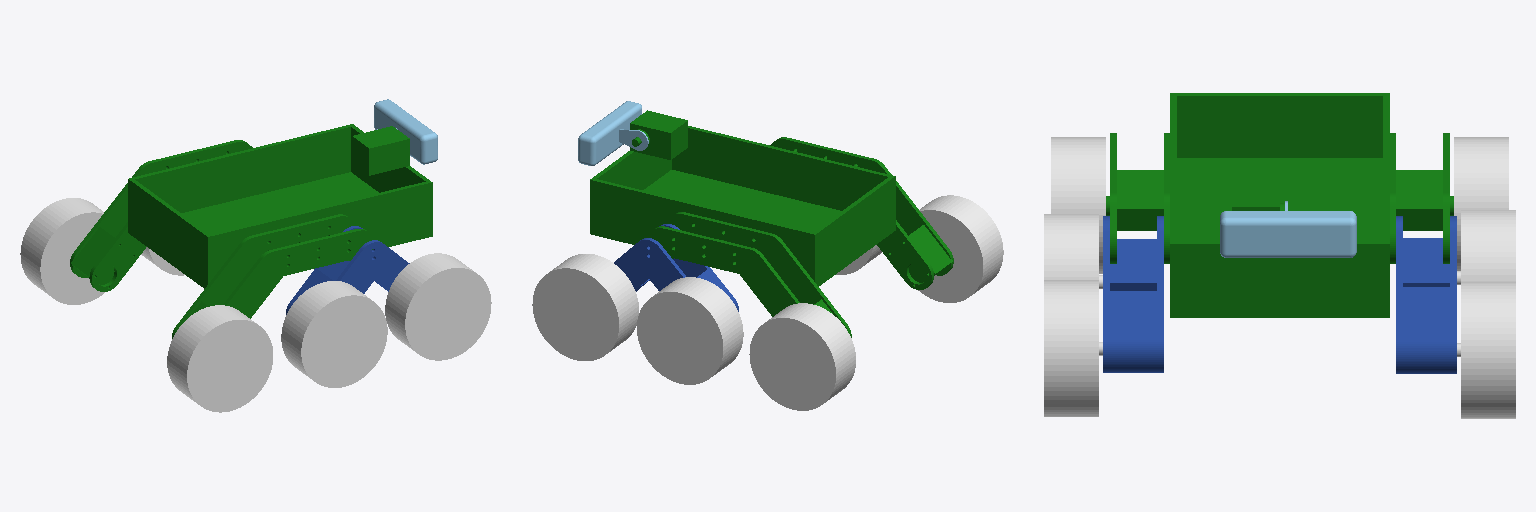
robot.urdf — robot:
<?xml version="1.0"?>
<robot name="robot" fixed_frame="dummy">

  <link name="dummy" fixed="true">
  </link>  

  <link name="l1">
    <visual>
      <origin xyz="-0.1623976833979026424 -0.20144544793473978528 0.26749193742773980098" rpy="1.5707963207290305263 2.9721157967096936663e-09 3.8418044321784632697e-10" />
      
      <geometry>
        <mesh filename="package://robot_description/archives/l1.stl"/>
      </geometry>
      <material name="l1_material">
        <color rgba="0.12941176470588236502 0.54117647058823525885 0.12941176470588236502 1.0"/>
      </material>
    </visual>
    <collision>
      <origin xyz="-0.1623976833979026424 -0.20144544793473978528 0.26749193742773980098" rpy="1.5707963207290305263 2.9721157967096936663e-09 3.8418044321784632697e-10" />
      <geometry>
        <mesh filename="package://robot_description/archives/l1.stl"/>
      </geometry>
    </collision>
    
    <inertial>
      <origin xyz="-0.18259398235284227119 -0.20236856510100109663 0.28038785160103718574" rpy="0 0 0"/>
      <mass value="1.1600736868674601521" />
      <inertia ixx="0.0066008651014344225244" ixy="0.000135586235209932273"  ixz="-0.0014781260412425468835" iyy="0.0106966871170354038" iyz="6.649765397261118234e-05" izz="0.015519266864299045838" />
    </inertial>
  </link>
  <link name="l2_l3_modificado-2_2">
    <visual>
        <origin xyz="5.5511151231257827021e-17 -2.7755575615628913511e-17 -0.039000000000000006883" rpy="1.570796326794896558 -8.2858707243642392136e-26 -3.3812745298728782663e-18" />
        <geometry>
        <mesh filename="package://robot_description/archives/l2_l3_modificado-2.stl"/>
        </geometry>
        <material name="l2_l3_modificado-2_material">
        <color rgba="0.2313725490196078538 0.38039215686274507888 0.7058823529411765163 1.0"/>
        </material>
    </visual>
    <collision>
        <origin xyz="5.5511151231257827021e-17 -2.7755575615628913511e-17 -0.039000000000000006883" rpy="1.570796326794896558 -8.2858707243642392136e-26 -3.3812745298728782663e-18" />
        <geometry>
        <mesh filename="package://robot_description/archives/l2_l3_modificado-2.stl"/>
        </geometry>
    </collision>
    <inertial>
        <origin xyz="0.041604917307636699042 -0.00094186232242261607416 -0.01700000000000001163" rpy="0 0 0"/>
        <mass value="0.19878085526035954578" />
        <inertia ixx="0.00045600719533735715626" ixy="-2.1979347753071165692e-06"  ixz="4.9485917399825457933e-28" iyy="0.0001117948906171440602" iyz="-6.0931890735852266954e-30" izz="0.00048695372639961931327" />
    </inertial>
  </link>

  <link name="l2_l3_modificado-2">
    <visual>
      <origin xyz="5.5511151231257827021e-17 0 -0.038999999999999979128" rpy="1.570796326794896558 4.2986550190141303174e-25 -3.216697786438753181e-18" />
      <geometry>
        <mesh filename="package://robot_description/archives/l2_l3_modificado-2.stl"/>
      </geometry>
      <material name="l2_l3_modificado-2_material">
        <color rgba="0.2313725490196078538 0.38039215686274507888 0.7058823529411765163 1.0"/>
      </material>
    </visual>
    <collision>
      <origin xyz="5.5511151231257827021e-17 0 -0.038999999999999979128" rpy="1.570796326794896558 4.2986550190141303174e-25 -3.216697786438753181e-18" />
      <geometry>
        <mesh filename="package://robot_description/archives/l2_l3_modificado-2.stl"/>
      </geometry>
    </collision>
    <inertial>
      <origin xyz="0.041604917307636699042 -0.00094186232242258831858 -0.016999999999999983874" rpy="0 0 0"/>
      <mass value="0.19878085526035954578" />
      <inertia ixx="0.00045600719533735693942" ixy="-2.1979347753071152987e-06"  ixz="-1.0461624586299991404e-28" iyy="0.0001117948906171440602" iyz="9.2711153304661378454e-30" izz="0.00048695372639961931327" />
    </inertial>
  </link>
   <link name="rueda10cm">
    <visual>
      <origin xyz="1.3877787807814456755e-17 0 -0.0030000000000000026645" rpy="-3.141592653589793116 -1.3232887103194747433e-25 2.6346479003792640069e-17" />
      <geometry>
          <mesh filename="package://robot_description/archives/rueda10cm.stl"/> 
      </geometry>
      <material name="rueda10cm_material">
        <color rgba="0.92156862745098033773 0.92156862745098033773 0.92156862745098033773 1.0"/>
      </material>
    </visual>
    <collision>
      <origin xyz="1.3877787807814456755e-17 0 -0.0030000000000000026645" rpy="-3.141592653589793116 -1.3232887103194747433e-25 2.6346479003792640069e-17" />
      <geometry>
          <mesh filename="package://robot_description/archives/rueda10cm.stl"/> 
      </geometry>
    </collision>
    <inertial>
      <origin xyz="1.294233490998378539e-17 9.8517850733825063838e-27 -0.022983887084686488445" rpy="0 0 0"/>
      <mass value="0.39299360600999816429" />
      <inertia ixx="0.00029793490712322410856" ixy="1.3173188654394999504e-20"  ixz="9.1874021171282252066e-29" iyy="0.00029793490712322416277" iyz="3.7183220189298748782e-29" izz="0.00049087753367729617185" />
    </inertial>
  </link>



  <link name="rueda10cm_2">
    <visual>
        <origin xyz="0 -1.3877787807814456755e-17 -0.0030000000000000026645" rpy="3.141592653589793116 -2.6504195547553351625e-25 -5.0019989647842346759e-17" />
        <geometry>
          <mesh filename="package://robot_description/archives/rueda10cm.stl"/> 
        </geometry>
        <material name="rueda10cm_material">
        <color rgba="0.92156862745098033773 0.92156862745098033773 0.92156862745098033773 1.0"/>
        </material>
    </visual>
    <collision>
        <origin xyz="0 -1.3877787807814456755e-17 -0.0030000000000000026645" rpy="3.141592653589793116 -2.6504195547553351625e-25 -5.0019989647842346759e-17" />
        <geometry>
          <mesh filename="package://robot_description/archives/rueda10cm.stl"/> 
        </geometry>
    </collision>
    <inertial>
        <origin xyz="-9.3545290370249415002e-19 -1.387778780482895257e-17 -0.022983887084686488445" rpy="0 0 0"/>
        <mass value="0.39299360600999816429" />
        <inertia ixx="0.00029793490712322421698" ixy="-2.5879488531348470936e-20"  ixz="2.7564737175589557739e-28" iyy="0.00029793490712322405435" iyz="-3.6156487985184271184e-28" izz="0.00049087753367729617185" />
    </inertial>
  </link>




  <link name="rueda10cm_3">
    <visual>
        <origin xyz="0 -4.1633363423443370266e-17 -0.0030000000000000026645" rpy="3.141592653589793116 2.4908934271607221179e-25 -8.0053156761873463748e-18" />
        <geometry>
          <mesh filename="package://robot_description/archives/rueda10cm.stl"/> 
        </geometry>
        <material name="rueda10cm_material">
        <color rgba="0.92156862745098033773 0.92156862745098033773 0.92156862745098033773 1.0"/>
        </material>
    </visual>
    <collision>
        <origin xyz="0 -4.1633363423443370266e-17 -0.0030000000000000026645" rpy="3.141592653589793116 2.4908934271607221179e-25 -8.0053156761873463748e-18" />
        <geometry>
          <mesh filename="package://robot_description/archives/rueda10cm.stl"/> 
        </geometry>
    </collision>
    <inertial>
        <origin xyz="-9.3545289037793300012e-19 -4.1633363414700092053e-17 -0.022983887084686488445" rpy="0 0 0"/>
        <mass value="0.39299360600999816429" />
        <inertia ixx="0.00029793490712322421698" ixy="-2.439209806515452231e-21"  ixz="-2.0483036187190332069e-28" iyy="0.00029793490712322416277" iyz="-2.9292185877211298753e-28" izz="0.00049087753367729638869" />
    </inertial>
  </link>



  <link name="rueda10cm_4">
    <visual>
        <origin xyz="0 6.9388939039072283776e-18 -0.0029999999999999887867" rpy="3.141592653589793116 -1.1528672886827154028e-24 1.4271986254412883463e-17" />
        <geometry>
          <mesh filename="package://robot_description/archives/rueda10cm.stl"/> 
        </geometry>
        <material name="rueda10cm_material">
        <color rgba="0.92156862745098033773 0.92156862745098033773 0.92156862745098033773 1.0"/>
        </material>
    </visual>
    <collision>
        <origin xyz="0 6.9388939039072283776e-18 -0.0029999999999999887867" rpy="3.141592653589793116 -1.1528672886827154028e-24 1.4271986254412883463e-17" />
        <geometry>
          <mesh filename="package://robot_description/archives/rueda10cm.stl"/> 
        </geometry>
    </collision>
    <inertial>
        <origin xyz="-9.3545291045017016982e-19 6.9388939147764589971e-18 -0.022983887084686474567" rpy="0 0 0"/>
        <mass value="0.39299360600999816429" />
        <inertia ixx="0.00029793490712322421698" ixy="7.2000410004067763659e-22"  ixz="7.0590919239142746815e-28" iyy="0.00029793490712322416277" iyz="-2.9065917041569690948e-28" izz="0.00049087753367729638869" />
    </inertial>
  </link>


  <link name="rueda10cm_5">
    <visual>
        <origin xyz="-5.5511151231257827021e-17 3.8163916471489756077e-17 -0.0030000000000000026645" rpy="3.141592653589793116 4.5599766001557814531e-26 -5.3448204808567667487e-17" />
        <geometry>
          <mesh filename="package://robot_description/archives/rueda10cm.stl"/> 
        </geometry>
        <material name="rueda10cm_material">
        <color rgba="0.92156862745098033773 0.92156862745098033773 0.92156862745098033773 1.0"/>
        </material>
    </visual>
    <collision>
        <origin xyz="-5.5511151231257827021e-17 3.8163916471489756077e-17 -0.0030000000000000026645" rpy="3.141592653589793116 4.5599766001557814531e-26 -5.3448204808567667487e-17" />
        <geometry>
          <mesh filename="package://robot_description/archives/rueda10cm.stl"/> 
        </geometry>
    </collision>
    <inertial>
        <origin xyz="-5.6446604118712877449e-17 3.8163916471733212111e-17 -0.022983887084686488445" rpy="0 0 0"/>
        <mass value="0.39299360600999816429" />
        <inertia ixx="0.00029793490712322421698" ixy="-2.3218875773836857727e-20"  ixz="-2.1600035251038875236e-28" iyy="0.00029793490712322416277" iyz="-1.1080630077344665209e-28" izz="0.00049087753367729617185" />
    </inertial>
  </link>



  <link name="rueda10cm_6">
    <visual>
        <origin xyz="-5.5511151231257827021e-17 2.7755575615628913511e-17 -0.0030000000000000026645" rpy="-3.141592653589793116 -4.8443625614625081283e-25 6.2726312896667128663e-17" />
        <geometry>
          <mesh filename="package://robot_description/archives/rueda10cm.stl"/> 
        </geometry>
        <material name="rueda10cm_material">
        <color rgba="0.92156862745098033773 0.92156862745098033773 0.92156862745098033773 1.0"/>
        </material>
    </visual>
    <collision>
        <origin xyz="-5.5511151231257827021e-17 2.7755575615628913511e-17 -0.0030000000000000026645" rpy="-3.141592653589793116 -4.8443625614625081283e-25 6.2726312896667128663e-17" />
        <geometry>
          <mesh filename="package://robot_description/archives/rueda10cm.stl"/> 
        </geometry>
    </collision>
    <inertial>
        <origin xyz="-5.6446604113580856548e-17 2.7755575623592649238e-17 -0.022983887084686488445" rpy="0 0 0"/>
        <mass value="0.39299360600999816429" />
        <inertia ixx="0.00029793490712322421698" ixy="-3.8673658401404432998e-20"  ixz="-1.8414552764643867941e-28" iyy="0.00029793490712322427119" iyz="-9.4221902638914639646e-29" izz="0.00049087753367729617185" />
    </inertial>
  </link>
  
  <link name="conexion_mr">
  <visual>
    <origin xyz="0 6.9388939039072283776e-18 0.0010000000000000008882" rpy="-1.570796326794896558 -8.1084492077740512287e-26 -1.0989427651290170218e-18" />
    <geometry>
      <mesh filename="package://robot_description/robot/conexion_mr.stl"/>
    </geometry>
    <material name="conexion_mr_material">
      <color rgba="0.61568627450980395466 0.81176470588235294379 0.92941176470588238168 1.0"/>
    </material>
  </visual>
  <collision>
    <origin xyz="0 6.9388939039072283776e-18 0.0010000000000000008882" rpy="-1.570796326794896558 -8.1084492077740512287e-26 -1.0989427651290170218e-18" />
    <geometry>
     <mesh filename="package://robot_description/robot/conexion_mr.stl"/>
    </geometry>
  </collision>
  <inertial>
    <origin xyz="5.857444094893600759e-19 -0.031653310614634153075 -0.00098346943959469424953" rpy="0 0 0"/>
    <mass value="0.49839642683248841504" />
  <inertia ixx="0.00041895941326657270805" ixy="6.6807887356152342232e-20"  ixz="3.4618973733355235438e-11" iyy="0.00043682618846628952589" iyz="-2.1404868092836559717e-07" izz="6.2269309644916189905e-05" />
  </inertial>
  </link>
  
  <!--joints-->
  
  <joint name="dummy_joint" type="fixed">
    <parent link="dummy"/>
    <child link="l1"/>
  </joint>
   
  <joint name="Junta_Pasiva_Derecha" type="revolute">
      <origin xyz="-0.12847176905482229903 -0.32544544781112361154 0.28572223970686733141" rpy="1.5707960183954783329 1.5511261948845664893 -3.0795557762774570826e-07" />
      <parent link="l1" />
      <child link="l2_l3_modificado-2" />
      <axis xyz="0 0 1"/>
      <limit effort="1" velocity="20" lower="-0.56" upper="2.0071286397934788859"/>
      <joint_properties friction="0.0"/>
  </joint>
  <joint name="Junta_Pasiva_Izquierda" type="revolute">
      <origin xyz="-0.12847176915009908549 -0.077445447811123502291 0.28572223820253256354" rpy="1.5707966702343139076 1.5531332946124785099 -3.141592309819767781" />
      <parent link="l1" />
      <child link="l2_l3_modificado-2_2" />
      <axis xyz="0 0 1"/>
      <limit effort="1" velocity="20" lower="-2.0071286397934788859" upper="0.56"/>
      <joint_properties friction="0.0"/>
  </joint>
 <joint name="Junta_R2" type="continuous">
      <origin xyz="0.060104076400856659701 0.060104076400856493168 0.0050000000000000044409" rpy="-3.141592653589793116 2.9562705873466152294e-18 -1.8301287006490860598" />
      <parent link="l2_l3_modificado-2" />
      <child link="rueda10cm" />
      <axis xyz="0 0 1"/>
      <limit effort="1" velocity="20" />
      <joint_properties friction="0.0"/>
  </joint>

  <joint name="Junta_R4" type="continuous">
      <origin xyz="0.060104076400856659701 -0.060104076400856465412 0.0049999999999999489297" rpy="-3.141592653589793116 7.3658748660732636819e-17 0.92941691210605825724" />
      <parent link="l2_l3_modificado-2" />
      <child link="rueda10cm_2" />
      <axis xyz="0 0 1"/>
      <limit effort="1" velocity="20" />
      <joint_properties friction="0.0"/>
  </joint>

  

  <joint name="Junta_R3" type="continuous">
      <origin xyz="0.060104076400856631945 0.060104076400856520923 0.0049999999999999905631" rpy="-3.141592653589793116 -4.2241592123221963104e-16 -0.49922167178213477934" />
      <parent link="l2_l3_modificado-2_2" />
      <child link="rueda10cm_3" />
      <axis xyz="0 0 1"/>
      <limit effort="1" velocity="20" />
      <joint_properties friction="0.0"/>
  </joint>

  <joint name="Junta_R1" type="continuous">
      <origin xyz="0.060104076400856659701 -0.060104076400856507045 0.0049999999999999905631" rpy="-3.141592653589793116 -7.6282239131955771344e-16 -0.25904331776269451382" />
      <parent link="l2_l3_modificado-2_2" />
      <child link="rueda10cm_4" />
      <axis xyz="0 0 1"/>
      <limit effort="1" velocity="20" />
      <joint_properties friction="0.0"/>
  </joint>


  <joint name="Junta_R5" type="continuous">
      <origin xyz="-0.31664389559457595258 -0.077445448247987117019 0.22562009378018710315" rpy="1.5707963196849008547 0.54880942899339246743 -3.3249042015534336724e-09" />
      <parent link="l1" />
      <child link="rueda10cm_5" />
      <axis xyz="0 0 1"/>
      <limit effort="1" velocity="20" />
      <joint_properties friction="0.0"/>
  </joint>


  <joint name="Junta_R6" type="continuous">
      <origin xyz="-0.31664389549929922163 -0.32544544824798721239 0.22562009528452187102" rpy="-1.5707963357497458645 0.82659653085727002875 -6.2032771584579110388e-09" />
      <parent link="l1" />
      <child link="rueda10cm_6" />
      <axis xyz="0 0 1"/>
      <limit effort="1" velocity="20" />
      <joint_properties friction="0.0"/>
  </joint>
  
  <joint name="Junta_camara" type="revolute">
    <origin xyz="-0.045397683173942562918 -0.19644544742878239374 0.3434919370496745672" rpy="-1.5707958774933501456 -1.5572952596564619832 3.1415922047133757466" />
    <parent link="l1" />
    <child link="conexion_mr" />
    <axis xyz="0 0 1"/>
    <limit effort="1" velocity="20" lower="-0.0471975511965976313" upper="1.0471975511965976313"/>
    <joint_properties friction="0.0"/>
  </joint>
 
     <transmission name="tran1">
    <type>transmission_interface/SimpleTransmission</type>
    <joint name="Junta_Pasiva_Izquierda">
      <hardwareInterface>hardware_interface/EffortJointInterface</hardwareInterface>
    </joint>
    <actuator name="motor1">
      <hardwareInterface>hardware_interface/EffortJointInterface</hardwareInterface>
      <mechanicalReduction>1</mechanicalReduction>
    </actuator>
  </transmission>

  <transmission name="tran2">
    <type>transmission_interface/SimpleTransmission</type>
    <joint name="Junta_Pasiva_Derecha">
      <hardwareInterface>hardware_interface/EffortJointInterface</hardwareInterface>
    </joint>
    <actuator name="motor2">
      <hardwareInterface>hardware_interface/EffortJointInterface</hardwareInterface>
      <mechanicalReduction>1</mechanicalReduction>
    </actuator>
  </transmission>

  <transmission name="tran3">
    <type>transmission_interface/SimpleTransmission</type>
    <joint name="Junta_camara">
      <hardwareInterface>hardware_interface/EffortJointInterface</hardwareInterface>
    </joint>
    <actuator name="motor3">
      <hardwareInterface>hardware_interface/EffortJointInterface</hardwareInterface>
      <mechanicalReduction>1</mechanicalReduction>
    </actuator>
  </transmission>

  
  <transmission name="wj1_trans">
    <type>transmission_interface/SimpleTransmission</type>
    <joint name="Junta_R1">
      <hardwareInterface>hardware_interface/EffortJointInterface</hardwareInterface>
    </joint>
    <actuator name="$wj1_motor">
      <mechanicalReduction>1</mechanicalReduction>
    </actuator>
  </transmission>

  <transmission name="wj2_trans">
    <type>transmission_interface/SimpleTransmission</type>
    <joint name="Junta_R2">
      <hardwareInterface>hardware_interface/EffortJointInterface</hardwareInterface>
    </joint>
    <actuator name="$wj2_motor">
      <mechanicalReduction>1</mechanicalReduction>
    </actuator>
  </transmission>
  
  <transmission name="wj3_trans">
    <type>transmission_interface/SimpleTransmission</type>
    <joint name="Junta_R3">
      <hardwareInterface>hardware_interface/EffortJointInterface</hardwareInterface>
    </joint>
    <actuator name="$wj3_motor">
      <mechanicalReduction>1</mechanicalReduction>
    </actuator>
  </transmission>
  
  <transmission name="wj4_trans">
    <type>transmission_interface/SimpleTransmission</type>
    <joint name="Junta_R4">
      <hardwareInterface>hardware_interface/EffortJointInterface</hardwareInterface>
    </joint>
    <actuator name="$wj4_motor">
      <mechanicalReduction>1</mechanicalReduction>
    </actuator>
  </transmission>

  <transmission name="wj5_trans">
    <type>transmission_interface/SimpleTransmission</type>
    <joint name="Junta_R5">
      <hardwareInterface>hardware_interface/EffortJointInterface</hardwareInterface>
    </joint>
    <actuator name="$wj5_motor">
      <mechanicalReduction>1</mechanicalReduction>
    </actuator>
  </transmission>
  
  <transmission name="wj6_trans">
    <type>transmission_interface/SimpleTransmission</type>
    <joint name="Junta_R6">
      <hardwareInterface>hardware_interface/EffortJointInterface</hardwareInterface>
    </joint>
    <actuator name="$wj6_motor">
      <mechanicalReduction>1</mechanicalReduction>
    </actuator>
  </transmission>

  
  <gazebo reference="conexion_mr">
    <material>Gazebo/Blue</material>
  </gazebo>
  
   <gazebo reference="rueda10cm">
    <mu1 value="200.0"/>
    <mu2 value="100.0"/>
    <kp value="10000000.0" />
    <kd value="1.0" />
    <material>Gazebo/Grey</material>
  </gazebo>

  <gazebo reference="rueda10cm_2">
    <mu1 value="200.0"/>
    <mu2 value="100.0"/>
    <kp value="10000000.0" />
    <kd value="1.0" />
    <material>Gazebo/Grey</material>
  </gazebo>

  <gazebo reference="rueda10cm_3">
    <mu1 value="200.0"/>
    <mu2 value="100.0"/>
    <kp value="10000000.0" />
    <kd value="1.0" />
    <material>Gazebo/Grey</material>
  </gazebo>

  <gazebo reference="rueda10cm_4">
    <mu1 value="200.0"/>
    <mu2 value="100.0"/>
    <kp value="10000000.0" />
    <kd value="1.0" />
    <material>Gazebo/Grey</material>
  </gazebo>

  <gazebo reference="rueda10cm_5">
    <mu1 value="200.0"/>
    <mu2 value="100.0"/>
    <kp value="10000000.0" />
    <kd value="1.0" />
    <material>Gazebo/Grey</material>
  </gazebo>

  <gazebo reference="rueda10cm_6">
    <mu1 value="200.0"/>
    <mu2 value="100.0"/>
    <kp value="10000000.0" />
    <kd value="1.0" />
    <material>Gazebo/Grey</material>
  </gazebo>
  <gazebo reference="l1">
    <material>Gazebo/Red</material>
  </gazebo>

  <gazebo reference="l2_l3_modificado-2">
    <material>Gazebo/Green</material>
  </gazebo>

  <gazebo reference="l2_l3_modificado-2_2">
    <material>Gazebo/Green</material>
  </gazebo>
  
  <gazebo>
    <plugin name="gazebo_ros_control" filename="libgazebo_ros_control.so">
      <robotNamespace>/robot</robotNamespace>
    </plugin>
  </gazebo>

  
  <gazebo reference="camera_link">
    <sensor type="camera" name="camera1">
      <update_rate>30.0</update_rate>
      <camera name="head">
        <horizontal_fov>1.3962634</horizontal_fov>
        <image>
          <width>800</width>
          <height>800</height>
          <format>R8G8B8</format>
        </image>
        <clip>
          <near>0.02</near>
          <far>300</far>
        </clip>
        <noise>
          <type>gaussian</type>
          <!-- Noise is sampled independently per pixel on each frame.
               That pixel's noise value is added to each of its color
               channels, which at that point lie in the range [0,1]. -->
          <mean>0.0</mean>
          <stddev>0.007</stddev>
        </noise>
      </camera>
      <plugin name="camera_controller" filename="libgazebo_ros_camera.so">
        <alwaysOn>true</alwaysOn>
        <updateRate>0.0</updateRate>
        <cameraName>rrbot/camera1</cameraName>
        <imageTopicName>image_raw</imageTopicName>
        <cameraInfoTopicName>camera_info</cameraInfoTopicName>
        <frameName>Junta_Camara</frameName>
        <hackBaseline>0.07</hackBaseline>
        <distortionK1>0.0</distortionK1>
        <distortionK2>0.0</distortionK2>
        <distortionK3>0.0</distortionK3>
        <distortionT1>0.0</distortionT1>
        <distortionT2>0.0</distortionT2>
      </plugin>
    </sensor>
  </gazebo>
</robot>

--- What the picture shows (computed from the rendered views, not written in the file) ---
3 views of the same robot in one strip: view 1: azimuth 30°, elevation 25°; view 2: azimuth 150°, elevation 25°; view 3: azimuth 270°, elevation 25° (orthographic).
Model robot with 11 links and 10 joints (3 revolute, 6 continuous, 1 fixed), rooted at dummy, posed all joints at 0.
Links seen in each view (by area): view 1: l1, rueda10cm, rueda10cm_6, rueda10cm_2, rueda10cm_5, l2_l3_modificado-2, conexion_mr; view 2: l1, rueda10cm_3, rueda10cm_5, rueda10cm_4, rueda10cm_6, l2_l3_modificado-2_2, conexion_mr; view 3: l1, l2_l3_modificado-2_2, l2_l3_modificado-2, rueda10cm, rueda10cm_4, conexion_mr, rueda10cm_6, rueda10cm_5, rueda10cm_3, rueda10cm_2.
Link boxes in pixels (left/top/right/bottom): l1: left=70, top=124, right=432, bottom=338; rueda10cm: left=385, top=253, right=491, bottom=360; rueda10cm_6: left=167, top=305, right=272, bottom=412; rueda10cm_2: left=281, top=281, right=387, bottom=387; rueda10cm_5: left=20, top=198, right=104, bottom=304; l2_l3_modificado-2: left=286, top=226, right=409, bottom=314; conexion_mr: left=374, top=99, right=437, bottom=164; l1: left=590, top=110, right=953, bottom=337; rueda10cm_3: left=637, top=277, right=743, bottom=384; rueda10cm_5: left=749, top=303, right=855, bottom=410; rueda10cm_4: left=532, top=254, right=638, bottom=360; rueda10cm_6: left=918, top=195, right=1003, bottom=302; l2_l3_modificado-2_2: left=614, top=224, right=738, bottom=311; conexion_mr: left=578, top=101, right=648, bottom=165; l1: left=1106, top=93, right=1453, bottom=317; l2_l3_modificado-2_2: left=1396, top=216, right=1456, bottom=373; l2_l3_modificado-2: left=1103, top=216, right=1163, bottom=372; rueda10cm: left=1044, top=280, right=1102, bottom=416; rueda10cm_4: left=1457, top=282, right=1515, bottom=418; conexion_mr: left=1220, top=201, right=1356, bottom=257; rueda10cm_6: left=1051, top=137, right=1105, bottom=273; rueda10cm_5: left=1454, top=137, right=1508, bottom=270; rueda10cm_3: left=1457, top=210, right=1515, bottom=284; rueda10cm_2: left=1044, top=214, right=1102, bottom=288.
Size in the robot's own frame: 0.3636 by 0.344 by 0.1857 metres.
Meshes: 4 distinct files referenced, 10 mesh visuals loaded (4 binary STL).
